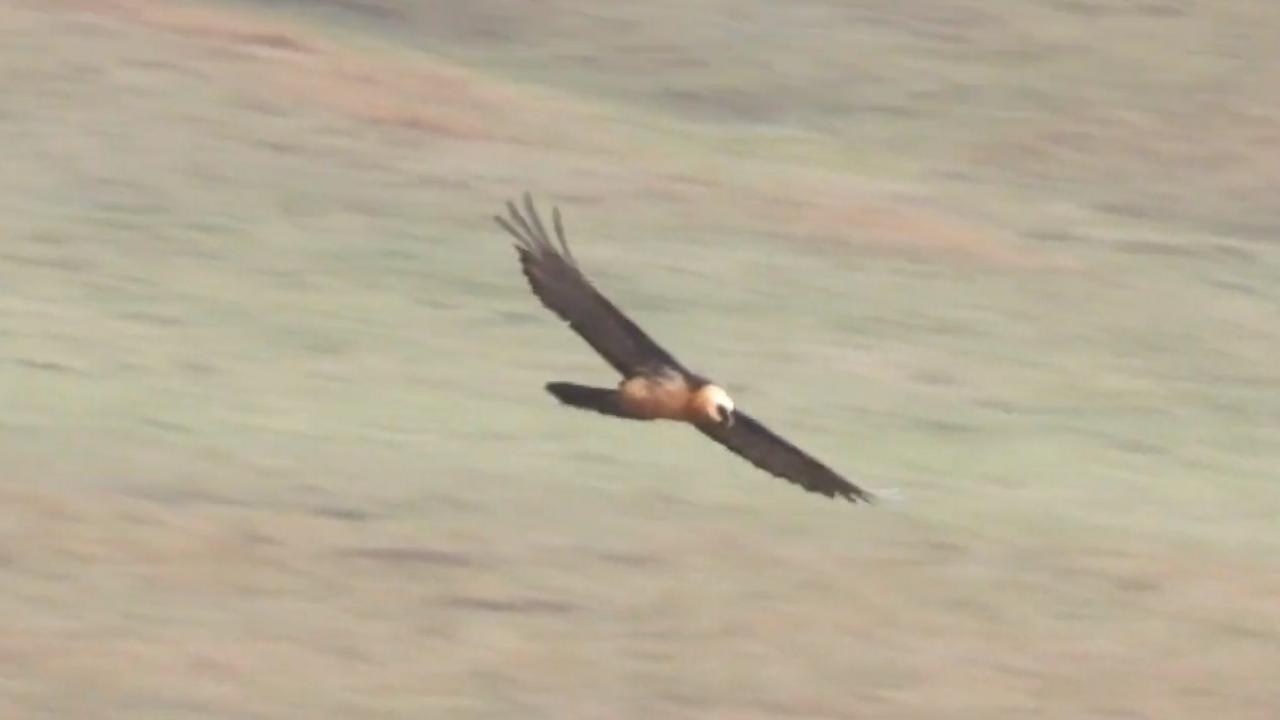Bird: (486, 183, 900, 514)
